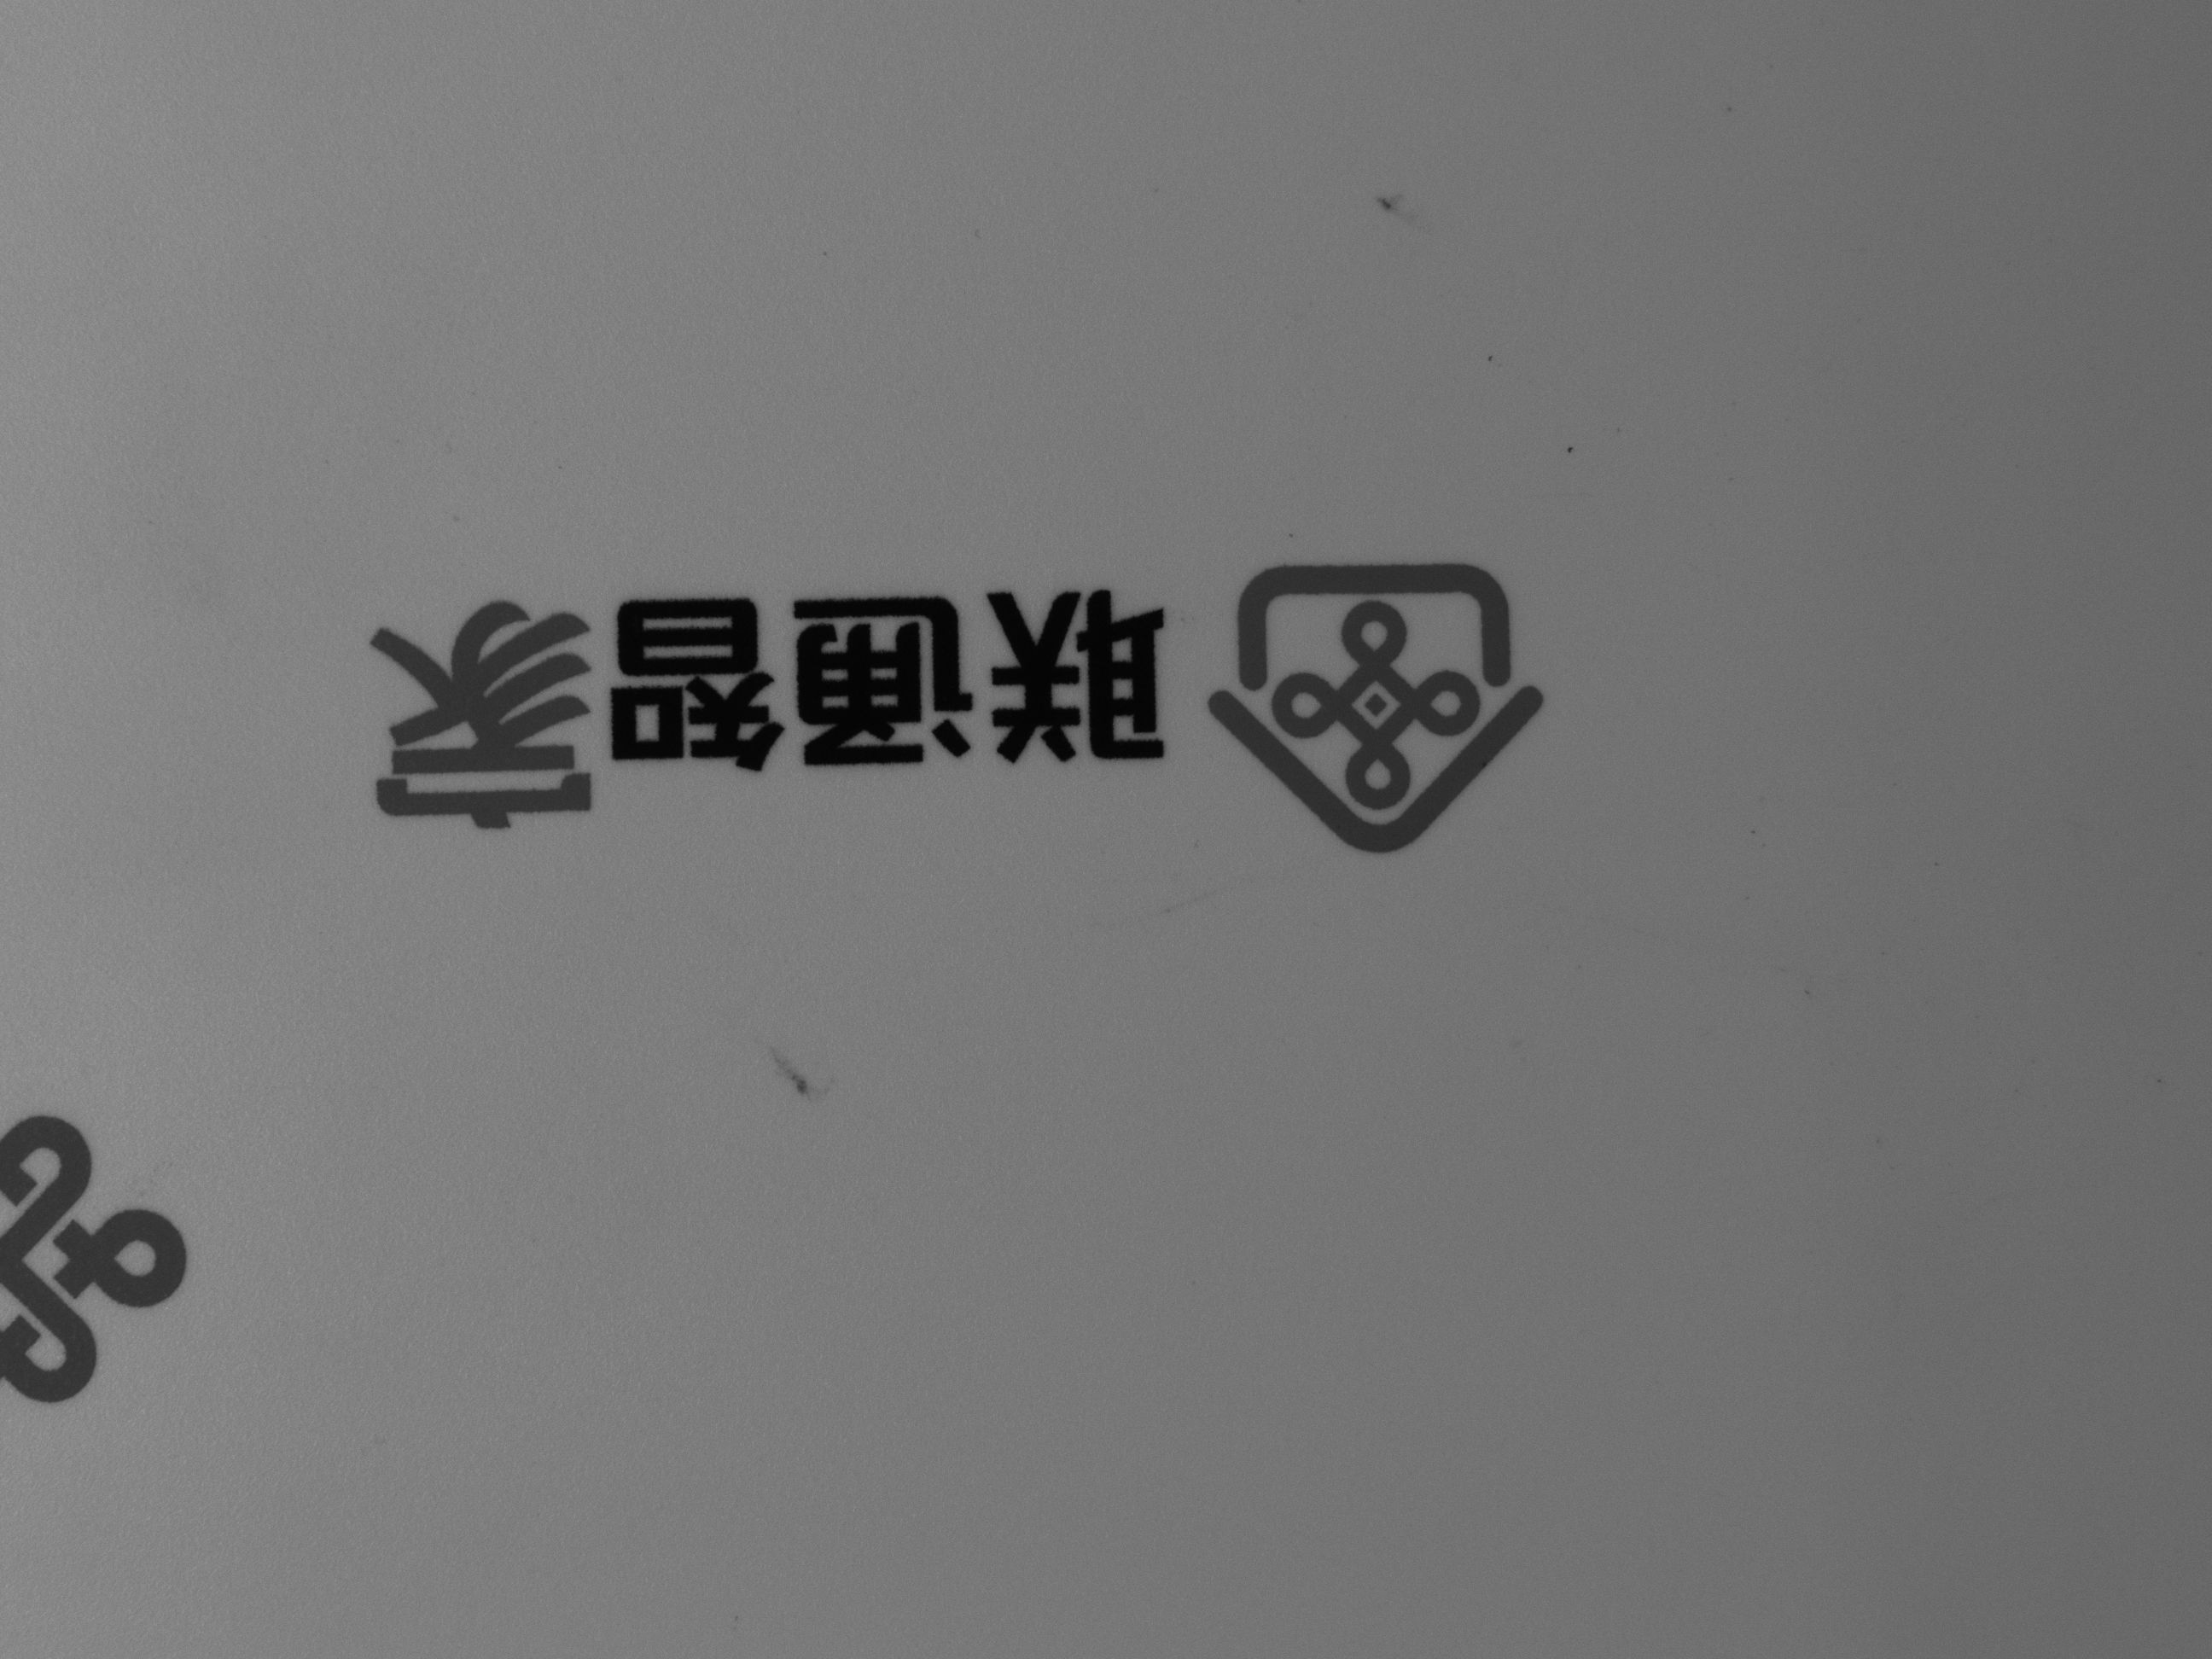BY_F6610Unicome: (317, 507, 1555, 890)
